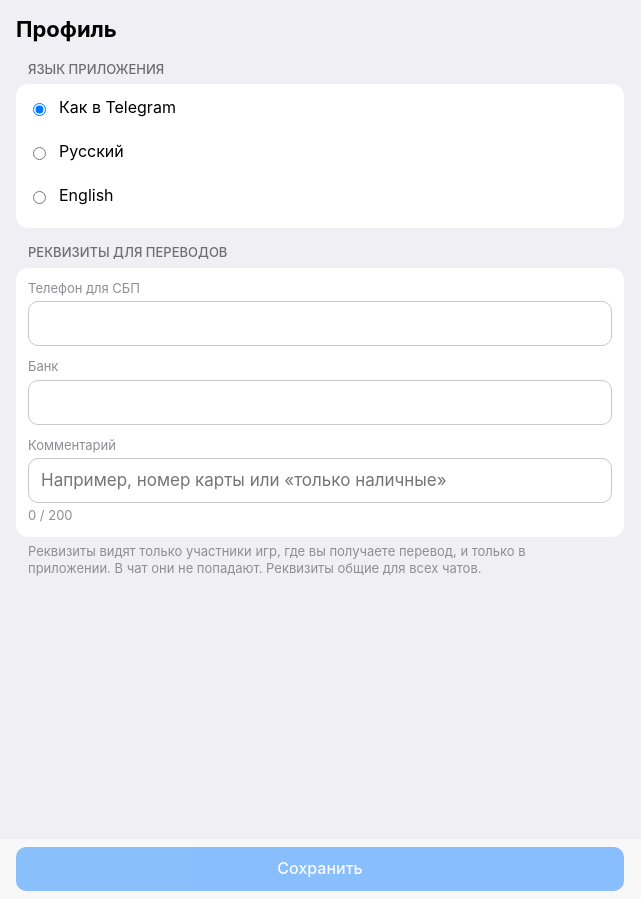
ProfilePage › switches the interface language
Click the radio button labelled "English" at (40, 198), box x1=33 y1=191 x2=46 y2=204
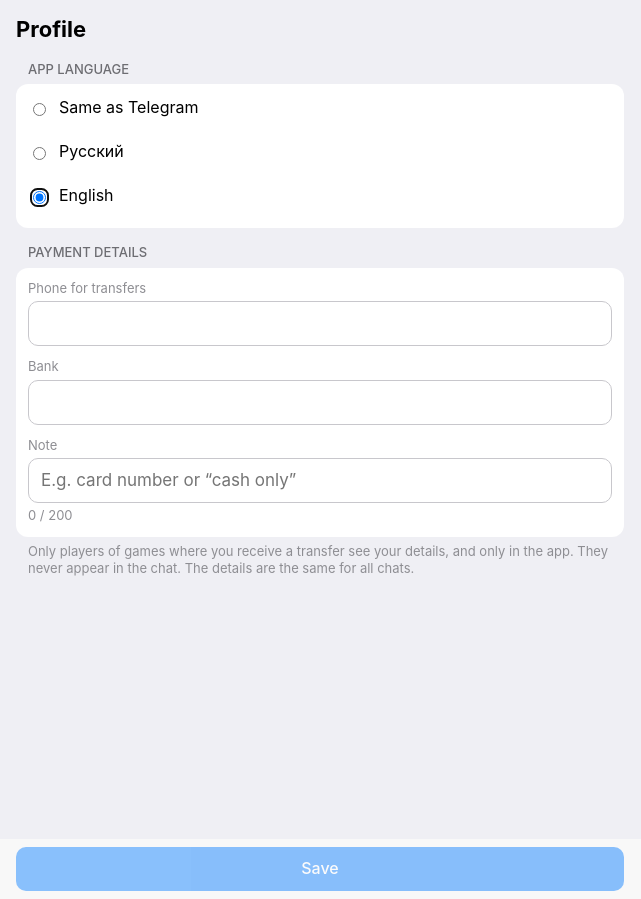
Expected: the heading "Profile" is shown, x1=16 y1=16 x2=86 y2=42
